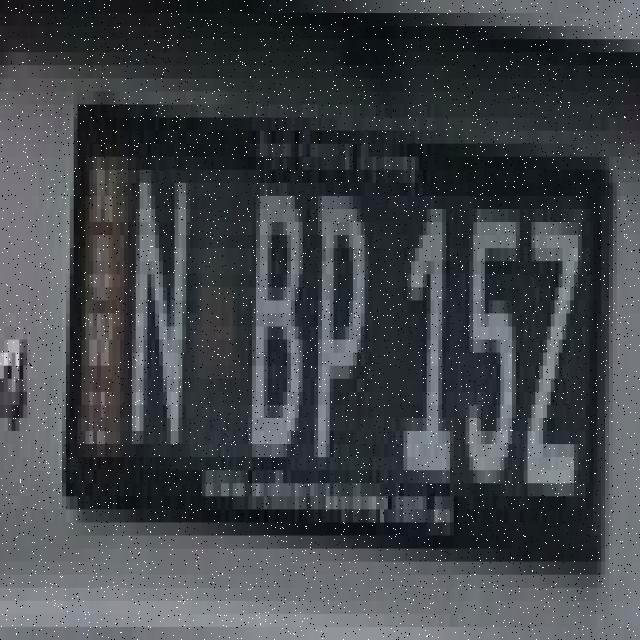licenseplate: (45, 32, 623, 592)
